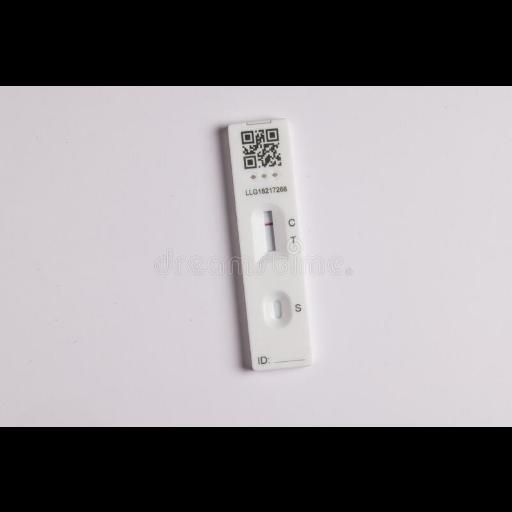Neg: (227, 116, 313, 373)
